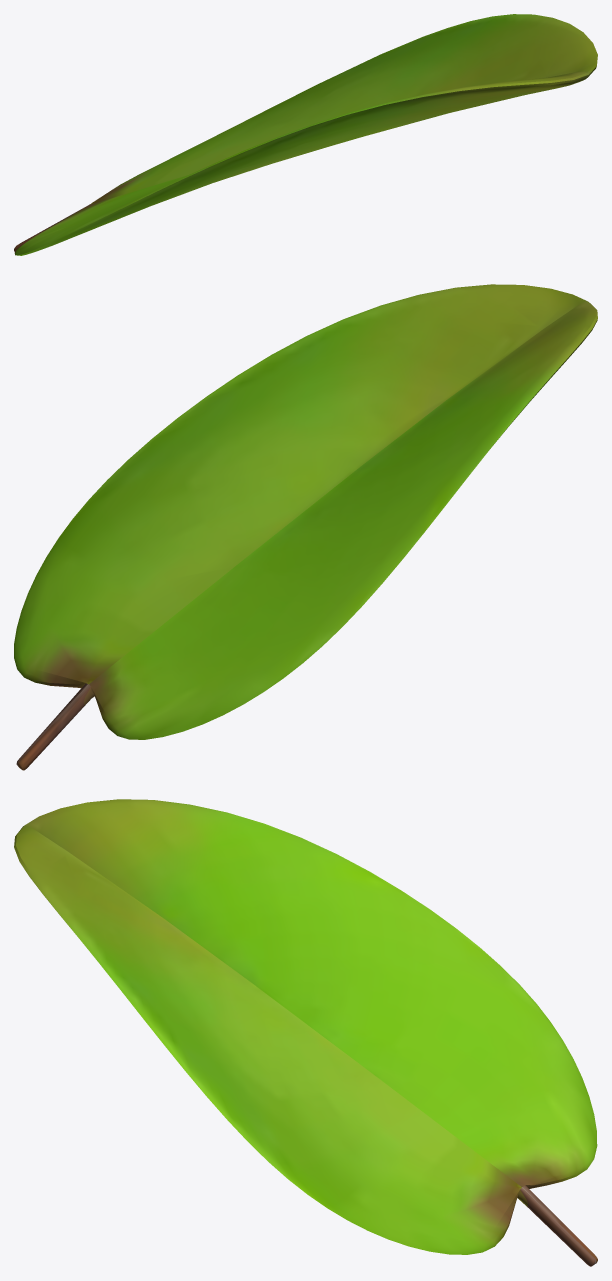
Rendered from cartoonLeaf.glb.
3 views of the same model, one above another, from view 1: azimuth 90°, elevation 25°; view 2: azimuth 150°, elevation 25°; view 3: azimuth 270°, elevation 25° (orthographic). The views are drawn at different scales.
Parts seen in each view (by area): view 1: Object_4; view 2: Object_4; view 3: Object_4.
Boxes of the visible parts, <box> form: Object_4: <box>14,14,597,255</box>; Object_4: <box>14,284,597,770</box>; Object_4: <box>14,799,597,1266</box>.
Bounding box in the file's own units: 1.92 × 1.42 × 2.37.
Materials: 1 (1 with a texture image).
